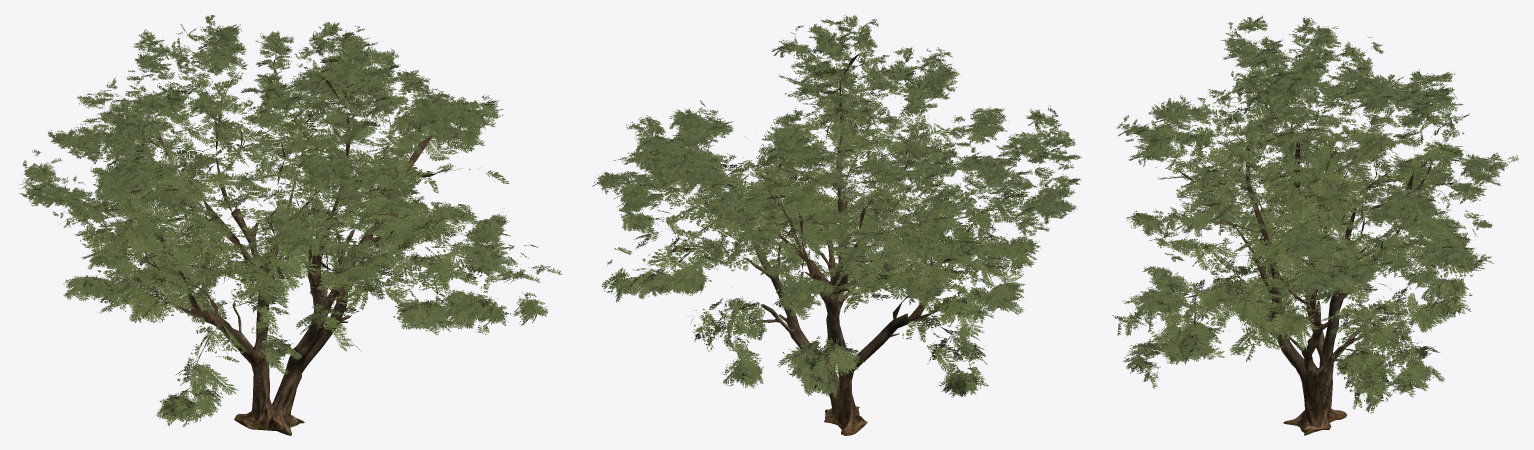
The model's file is umbrella_tree_far.glb.
The picture shows the model from 3 angles, left to right: view 1: azimuth 30°, elevation 25°; view 2: azimuth 150°, elevation 25°; view 3: azimuth 270°, elevation 25°; orthographic projection. The views are drawn at different scales.
Visible parts, largest first — view 1: jacaranda_tree_mesh; view 2: jacaranda_tree_mesh; view 3: jacaranda_tree_mesh.
Part boxes in pixels (box(x1,y1,x2,y2)): jacaranda_tree_mesh: box(19, 15, 561, 435); jacaranda_tree_mesh: box(592, 14, 1081, 435); jacaranda_tree_mesh: box(1112, 15, 1518, 435).
Size of the model in its own units: 24.32 by 19.54 by 19.28.
Materials: 3 (3 with a texture image).
